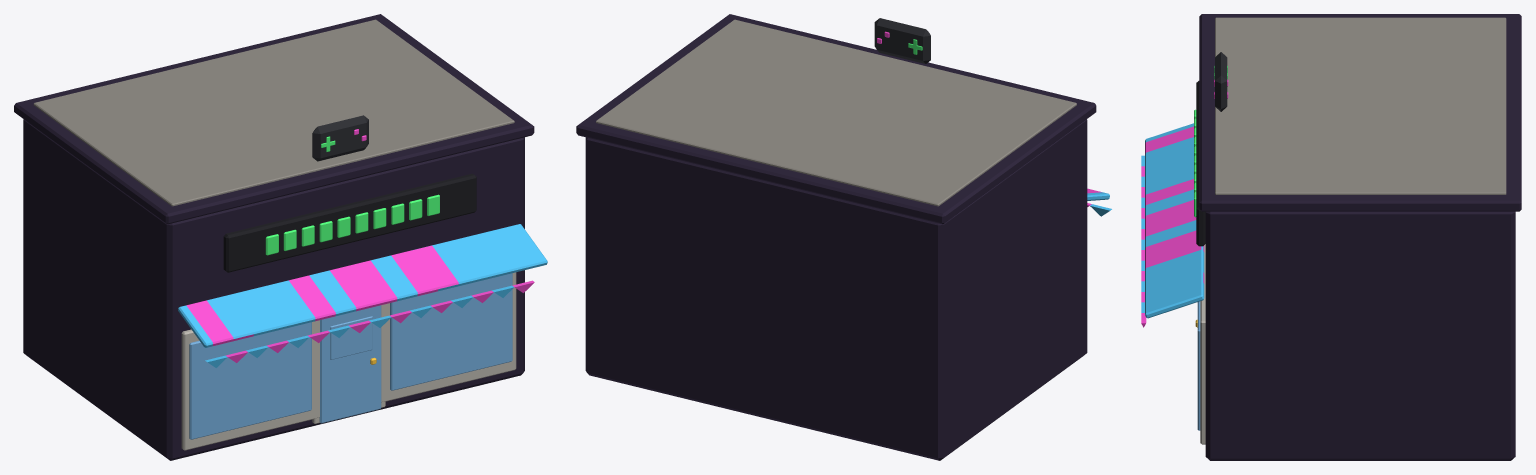
File: ArcadeShop.fbx
3 views of the same model, side by side, from view 1: azimuth 30°, elevation 25°; view 2: azimuth 150°, elevation 25°; view 3: azimuth 270°, elevation 25° (orthographic). The views are drawn at different scales.
Parts seen in each view (by area): view 1: ArcadeShop; view 2: ArcadeShop; view 3: ArcadeShop.
Part boxes in pixels (box(x1,y1,x2,y2)): ArcadeShop: box(14, 14, 547, 460); ArcadeShop: box(576, 14, 1111, 460); ArcadeShop: box(1141, 14, 1521, 460).
Size of the model in its own units: 14.4 by 10.95 by 12.28.
Materials: 1 (1 with a texture image).
